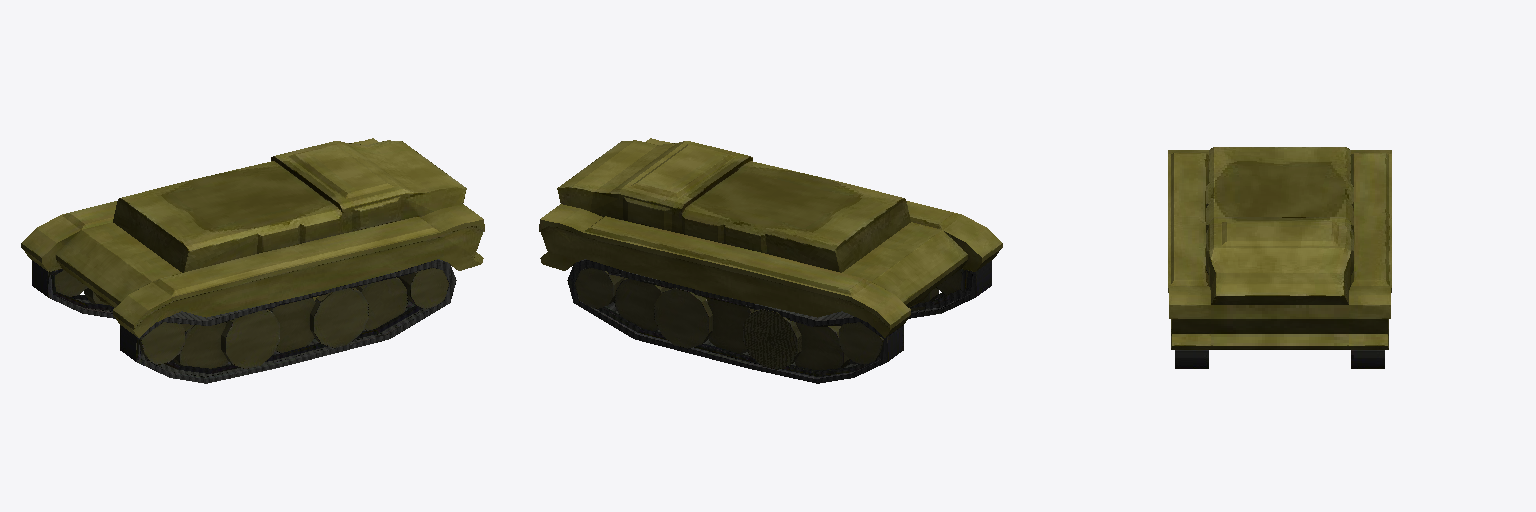
3 renders of one model, left to right at view 1: azimuth 30°, elevation 25°; view 2: azimuth 150°, elevation 25°; view 3: azimuth 270°, elevation 25°, orthographic.
Parts seen in each view (by area): view 1: BodyGood; view 2: BodyGood; view 3: BodyGood.
Part boxes in pixels (x1,y1,x2,y2): BodyGood: (21, 138, 484, 383); BodyGood: (539, 138, 1002, 383); BodyGood: (1168, 147, 1391, 368).
Bounding box in the file's own units: 3.36 × 1.19 × 1.83.
Materials: 3 (2 with a texture image).